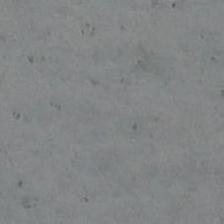Non_Crack: (34, 5, 224, 224)
